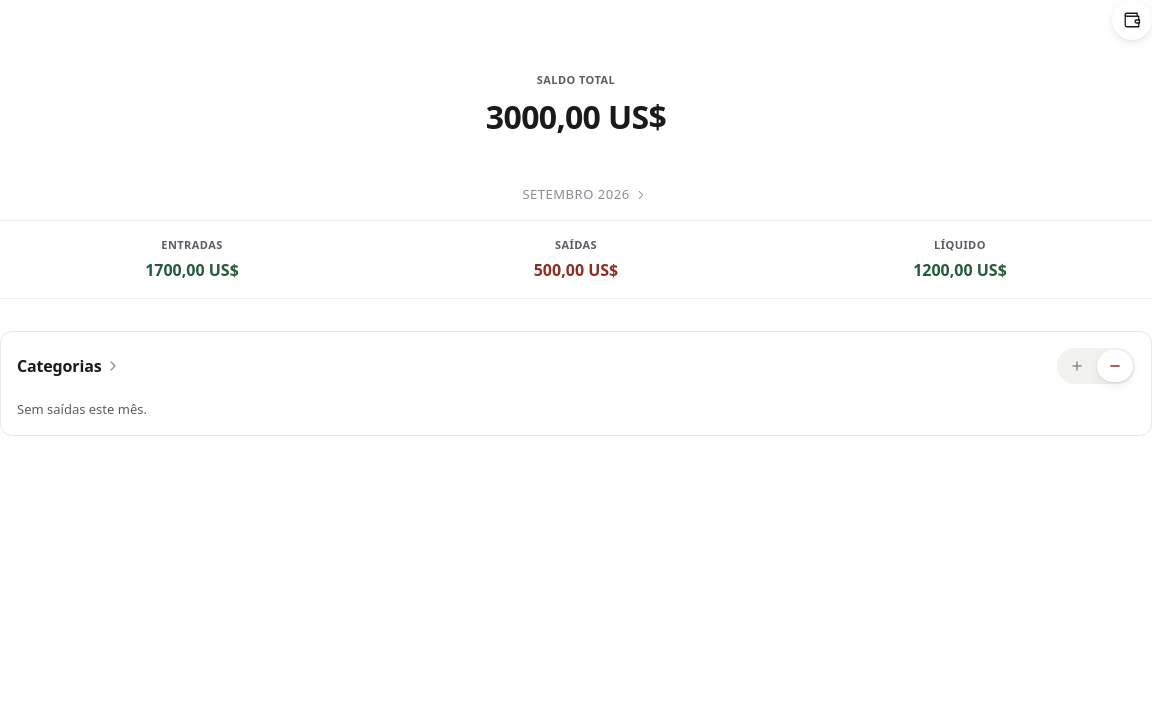
Test case: Início › filtro global de contas › escolher uma conta pede de novo o resumo com "contas" no URL, e mostra o esqueleto entretanto
Click the button named "Contas: Todas" at (1132, 20), box left=1112, top=0, right=1151, bottom=40
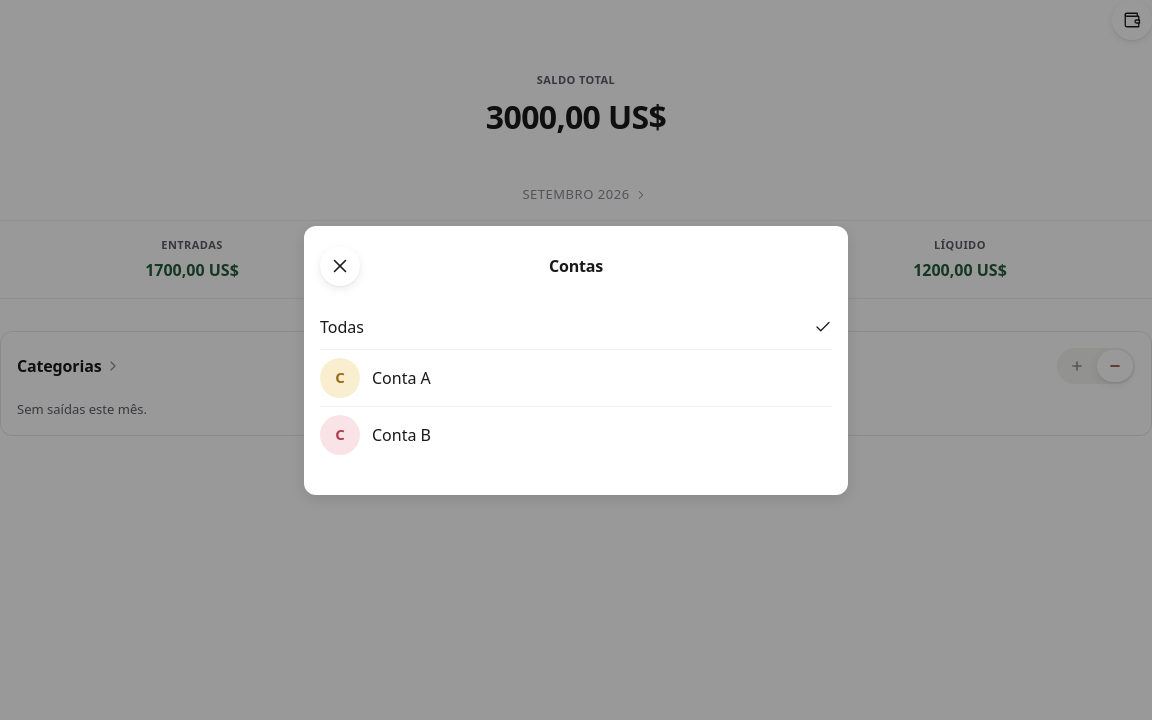
Click the button "C Conta A" at (340, 378), box left=320, top=350, right=832, bottom=406
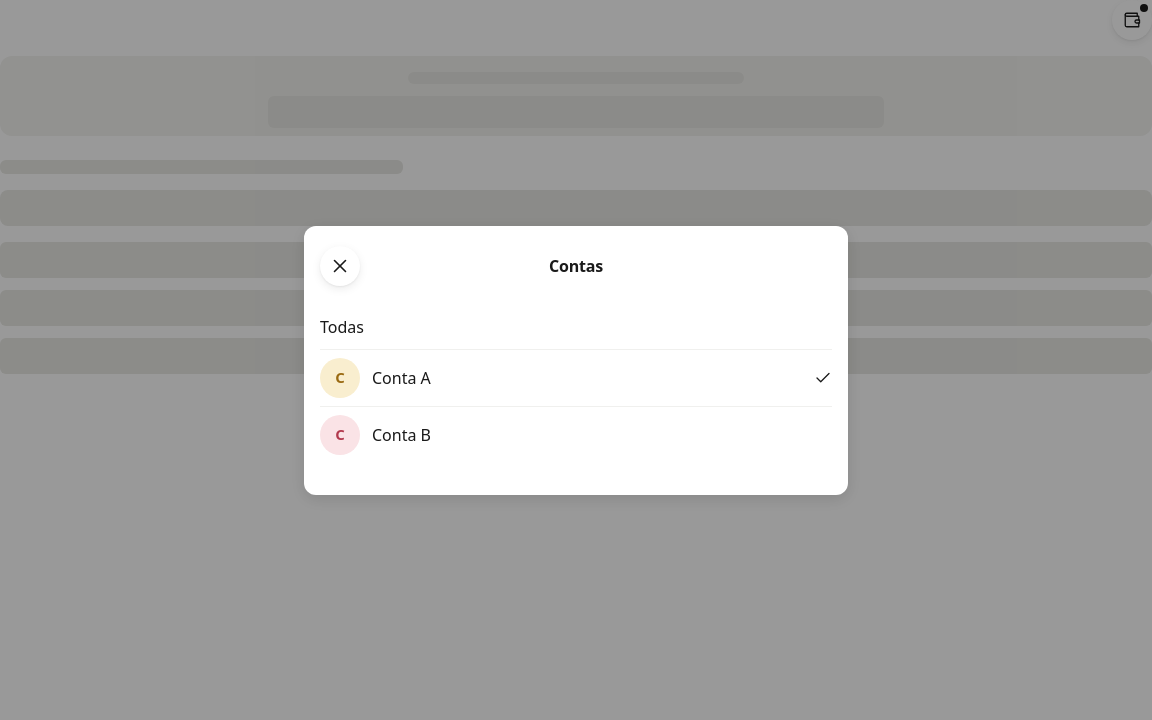
expect the message named "A carregar o resumo" is shown: met, box left=0, top=56, right=1151, bottom=374
expect the button named "Contas: Conta A" is shown: met, box left=1112, top=0, right=1151, bottom=40
